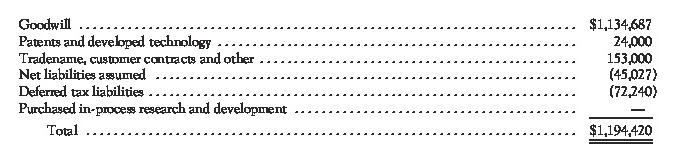table: (0, 0, 673, 156)
